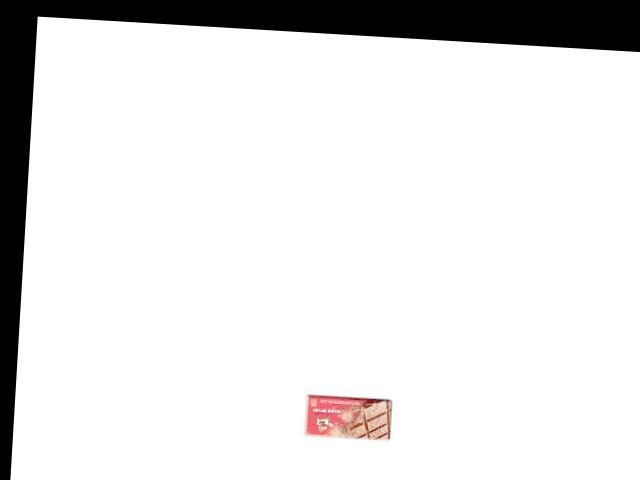chocolate: (303, 392, 394, 443)
